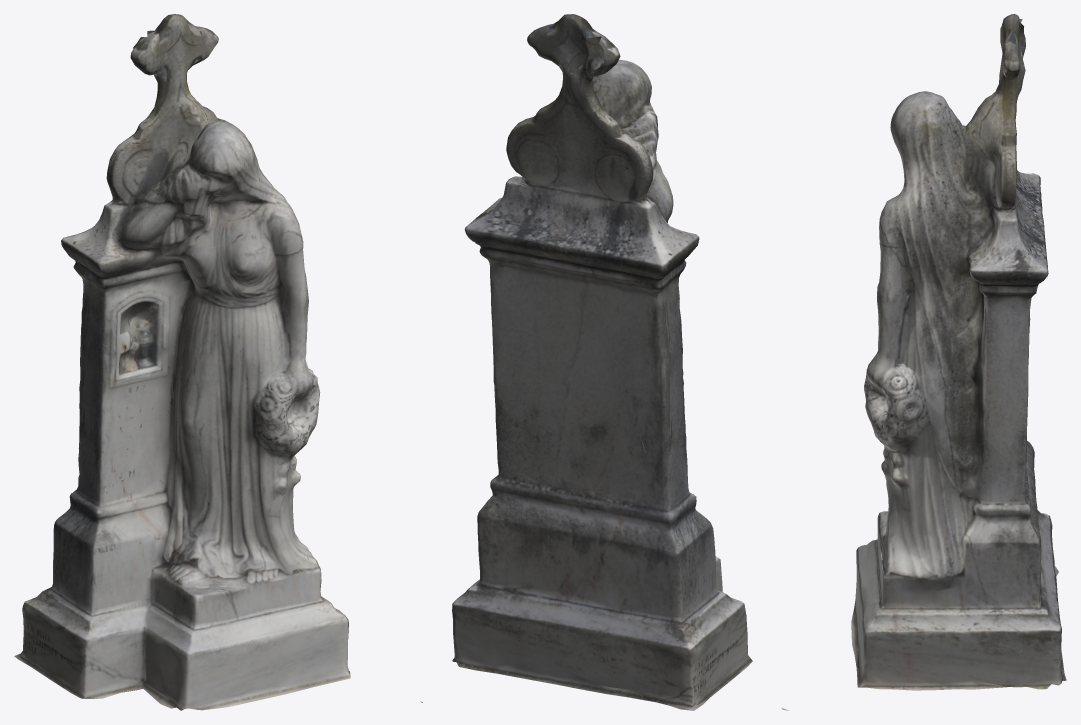
Rendered from angel_statue2.glb.
3 views of the same model, side by side, from view 1: azimuth 30°, elevation 25°; view 2: azimuth 150°, elevation 25°; view 3: azimuth 270°, elevation 25° (orthographic). The views are drawn at different scales.
Parts seen in each view (by area): view 1: Model; view 2: Model; view 3: Model.
Part boxes in pixels (bbox=[...]): Model: bbox=[14, 14, 422, 710]; Model: bbox=[452, 14, 752, 710]; Model: bbox=[781, 14, 1066, 710].
Size of the model in its own units: 1.81 by 4.02 by 1.65.
Materials: 1 (1 with a texture image).
